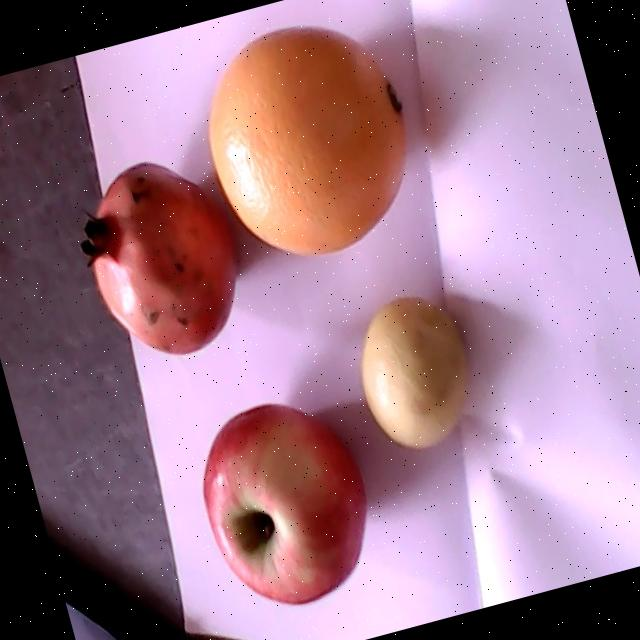apple: (202, 403, 367, 605)
lemon: (360, 294, 469, 449)
orange: (208, 24, 406, 257)
pomegranate: (75, 160, 240, 353)
